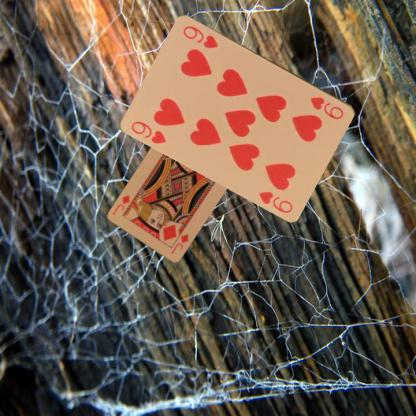9h: (128, 118, 168, 145), (308, 93, 346, 120)
Jd: (168, 232, 190, 255)
